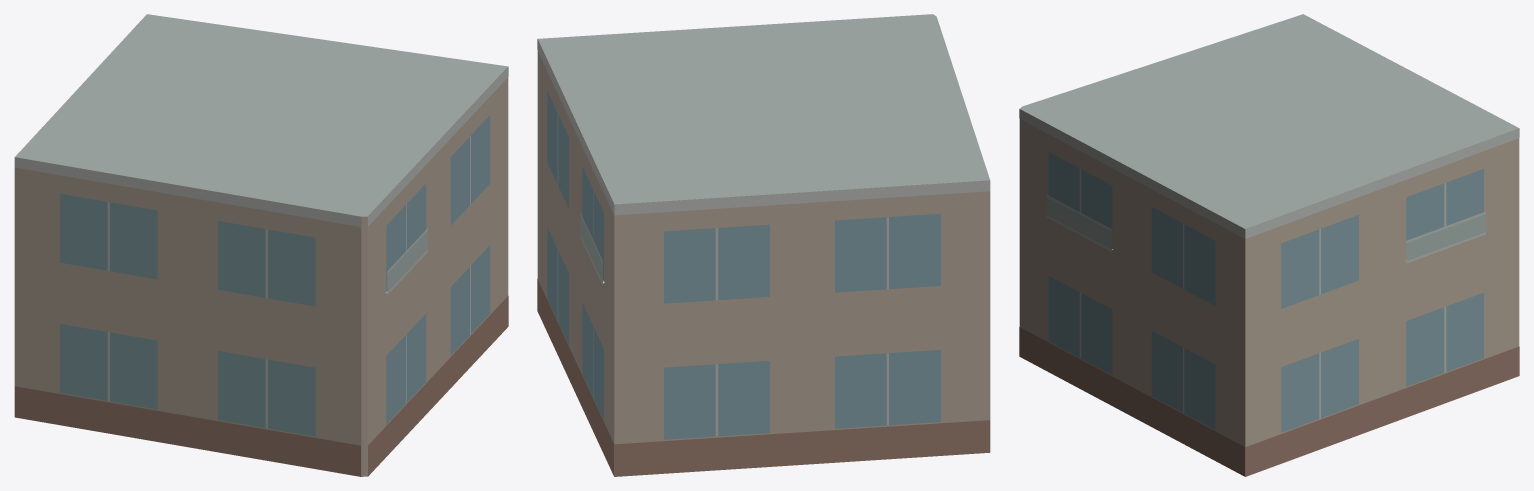
Rendered from survey-upis-32640325.glb.
3 views of the same model, side by side, from view 1: azimuth 30°, elevation 25°; view 2: azimuth 150°, elevation 25°; view 3: azimuth 270°, elevation 25° (orthographic). The views are drawn at different scales.
Visible parts, largest first — view 1: survey-upis-32640325.tmp; view 2: survey-upis-32640325.tmp; view 3: survey-upis-32640325.tmp.
Boxes of the visible parts, bbox=[...] form: survey-upis-32640325.tmp: bbox=[14, 14, 508, 476]; survey-upis-32640325.tmp: bbox=[537, 14, 990, 476]; survey-upis-32640325.tmp: bbox=[1019, 14, 1519, 476].
Size of the model in its own units: 11.37 by 6.1 by 11.17.
